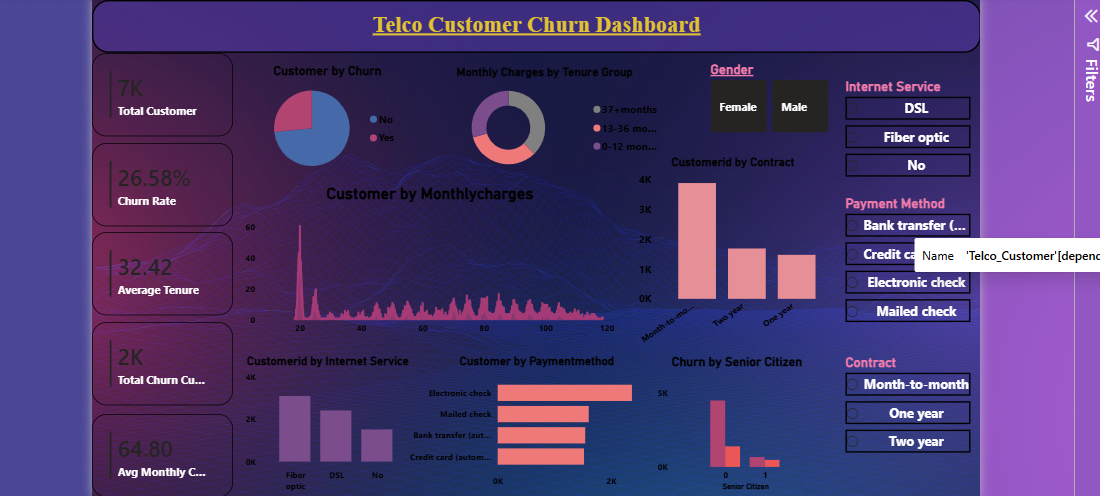

What the dashboard file says about the page in this screenshot:
{"tool":"powerbi","page":{"name":"Page 1","canvas":[1280,720],"ordinal":0},"visuals":[{"type":"pieChart","title":"Customer by Churn","fields":{"Category":["Telco_Customer.churn"],"Y":["CountNonNull(Telco_Customer.customerid)"]},"box":[229,95,220.3,167],"z":0},{"type":"cardVisual","fields":{"Data":["Telco_Customer.Total Churn Customer"]},"box":[0,468,203,119.5],"z":1000},{"type":"cardVisual","fields":{"Data":["Telco_Customer.Churn Rate"]},"box":[0,210.2,203,119.5],"z":2000},{"type":"textbox","box":[0,4.4,1280.5,76.1],"z":3000},{"type":"advancedSlicerVisual","title":"Gender","fields":{"Values":["Telco_Customer.gender"]},"box":[885.6,92.2,181.4,108],"z":4000},{"type":"clusteredColumnChart","title":"Customerid by Contract","fields":{"Category":["Telco_Customer.contract"],"Y":["CountNonNull(Telco_Customer.customerid)"]},"box":[767.5,227.5,311,285.1],"z":5000},{"type":"barChart","title":"Customer by Paymentmethod","fields":{"Category":["Telco_Customer.paymentmethod"],"Y":["CountNonNull(Telco_Customer.customerid)"]},"box":[439.2,514.1,403.2,201.6],"z":6000},{"type":"columnChart","title":"Customerid by Internet Service","fields":{"Category":["Telco_Customer.internetservice"],"Y":["CountNonNull(Telco_Customer.customerid)"]},"box":[216,514.1,247.7,205.9],"z":7000},{"type":"lineChart","title":"Customer by Monthlycharges","fields":{"Category":["Telco_Customer.monthlycharges"],"Y":["Count(Telco_Customer.customerid)"]},"box":[216,269.3,541.4,226.1],"z":8000},{"type":"donutChart","title":"Monthly Charges by Tenure Group","fields":{"Category":["Telco_Customer.Tenure Group"],"Y":["Telco_Customer.Avg Monthly Charges"]},"box":[473.8,97.9,355.7,161.3],"z":9000},{"type":"listSlicer","title":"Internet Service","fields":{"Values":["Telco_Customer.internetservice"]},"box":[1080,116.6,190.1,152.6],"z":10000},{"type":"cardVisual","fields":{"Data":["Telco_Customer.Avg Monthly Charges"]},"box":[0,600.5,203,119.5],"z":11000},{"type":"cardVisual","fields":{"Data":["Telco_Customer.Average Tenure"]},"box":[0,338.4,203,119.5],"z":12000},{"type":"cardVisual","fields":{"Data":["Telco_Customer.Total Customer"]},"box":[0,80.6,203,119.5],"z":13000},{"type":"listSlicer","title":"Payment Method","fields":{"Values":["Telco_Customer.paymentmethod"]},"box":[1080,285.1,190.1,194.4],"z":14000},{"type":"listSlicer","title":"Contract","fields":{"Values":["Telco_Customer.contract"]},"box":[1080,514.1,190.1,194.4],"z":15000},{"type":"clusteredColumnChart","title":"Churn by Senior Citizen","fields":{"Category":["Telco_Customer.seniorcitizen"],"Y":["CountNonNull(Telco_Customer.customerid)"],"Series":["Telco_Customer.churn"]},"box":[809.3,514.1,239,201.6],"z":16000}]}

Visuals, with their boxes on the page's 1280x720 design canvas (x1, y1, x2, y2). These are canvas units, not pixel positions in the 1100x496 screenshot, which may show the page scaled, cropped or inside an application window:
"Customer by Churn" pieChart: bbox(229, 95, 449, 262)
cardVisual - Telco_Customer.Total Churn Customer: bbox(0, 468, 203, 588)
cardVisual - Telco_Customer.Churn Rate: bbox(0, 210, 203, 330)
textbox: bbox(0, 4, 1280, 80)
"Gender" advancedSlicerVisual: bbox(886, 92, 1067, 200)
"Customerid by Contract" clusteredColumnChart: bbox(768, 228, 1078, 513)
"Customer by Paymentmethod" barChart: bbox(439, 514, 842, 716)
"Customerid by Internet Service" columnChart: bbox(216, 514, 464, 720)
"Customer by Monthlycharges" lineChart: bbox(216, 269, 757, 495)
"Monthly Charges by Tenure Group" donutChart: bbox(474, 98, 830, 259)
"Internet Service" listSlicer: bbox(1080, 117, 1270, 269)
cardVisual - Telco_Customer.Avg Monthly Charges: bbox(0, 600, 203, 720)
cardVisual - Telco_Customer.Average Tenure: bbox(0, 338, 203, 458)
cardVisual - Telco_Customer.Total Customer: bbox(0, 81, 203, 200)
"Payment Method" listSlicer: bbox(1080, 285, 1270, 480)
"Contract" listSlicer: bbox(1080, 514, 1270, 708)
"Churn by Senior Citizen" clusteredColumnChart: bbox(809, 514, 1048, 716)
